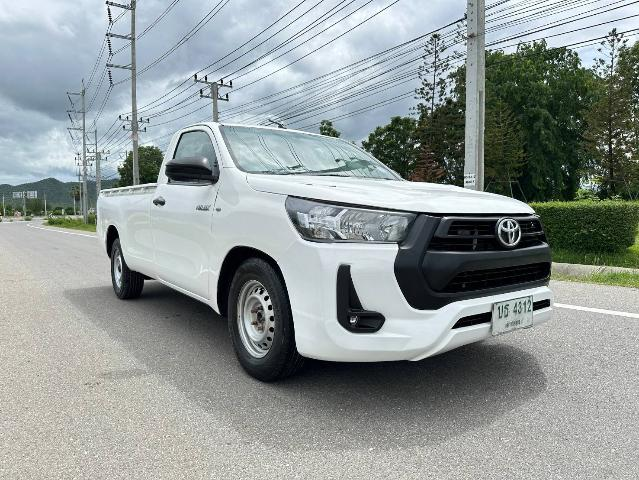pickup-truck: (89, 118, 558, 385)
